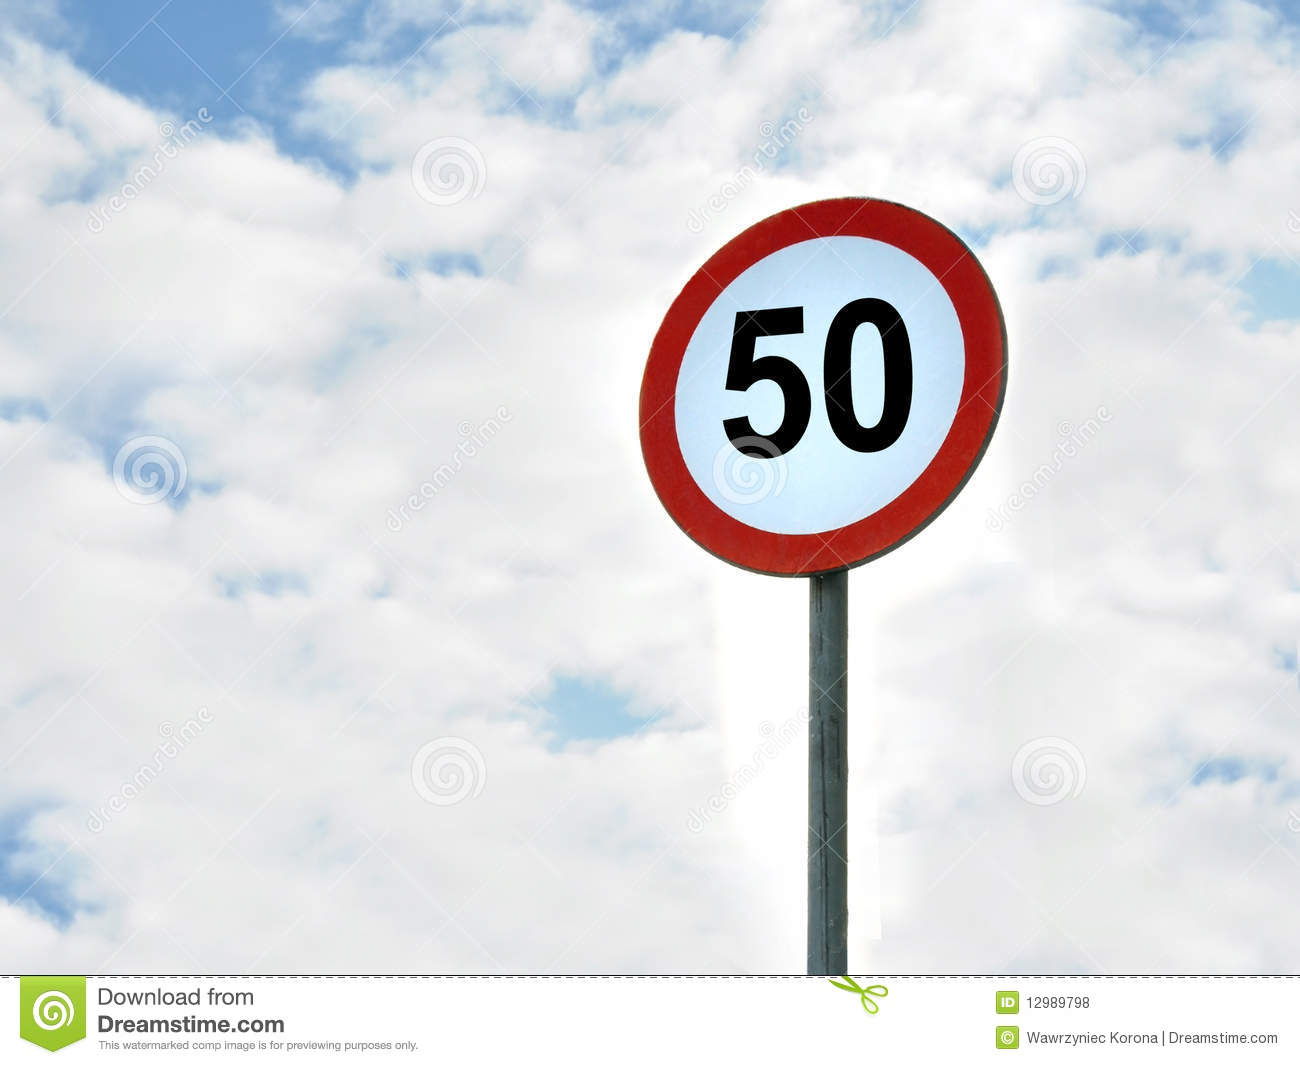Speed_limit_50km: (640, 194, 1008, 584)
